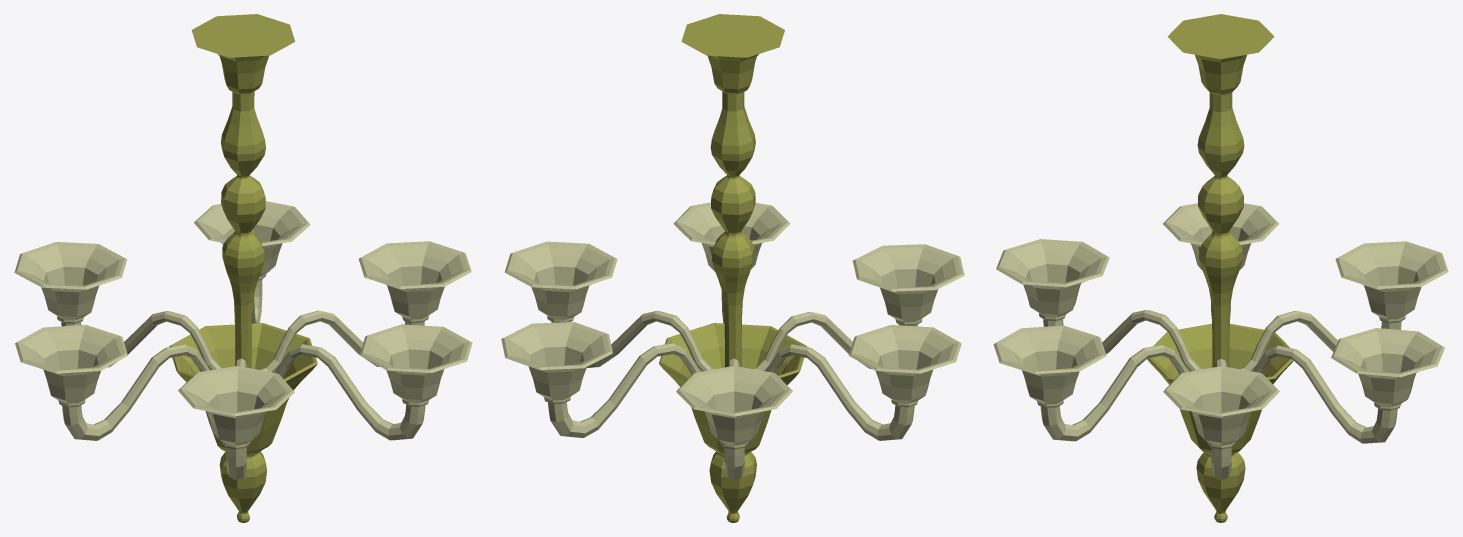
File: Chandelier.fbx
3 views of the same model, side by side, from view 1: azimuth 30°, elevation 25°; view 2: azimuth 150°, elevation 25°; view 3: azimuth 270°, elevation 25° (orthographic).
Parts seen in each view (by area): view 1: nurbsToPoly1, pCylinder4, pCylinder2, pCylinder5, pCylinder7, pCylinder3, pCylinder6; view 2: nurbsToPoly1, pCylinder6, pCylinder2, pCylinder5, pCylinder3, pCylinder7, pCylinder4; view 3: nurbsToPoly1, pCylinder4, pCylinder6, pCylinder3, pCylinder7, pCylinder5, pCylinder2.
Part boxes in pixels (x1,y1,x2,y2): nurbsToPoly1: [169, 14, 317, 522]; pCylinder4: [275, 324, 472, 440]; pCylinder2: [15, 325, 209, 440]; pCylinder5: [260, 241, 471, 372]; pCylinder7: [14, 242, 221, 370]; pCylinder3: [178, 358, 294, 480]; pCylinder6: [194, 201, 310, 323]; nurbsToPoly1: [659, 14, 807, 522]; pCylinder6: [501, 322, 700, 437]; pCylinder2: [766, 325, 961, 440]; pCylinder5: [504, 241, 714, 371]; pCylinder3: [753, 244, 964, 371]; pCylinder7: [676, 358, 792, 480]; pCylinder4: [673, 202, 790, 323]; nurbsToPoly1: [1147, 14, 1293, 522]; pCylinder4: [993, 325, 1188, 441]; pCylinder6: [1253, 328, 1444, 443]; pCylinder3: [996, 239, 1202, 371]; pCylinder7: [1240, 241, 1448, 371]; pCylinder5: [1163, 359, 1279, 480]; pCylinder2: [1163, 203, 1278, 318].
Bounding box in the file's own units: 83.82 × 87.55 × 74.32.
